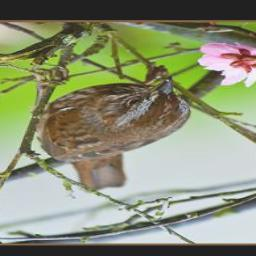Sparrow: (21, 64, 194, 194)
